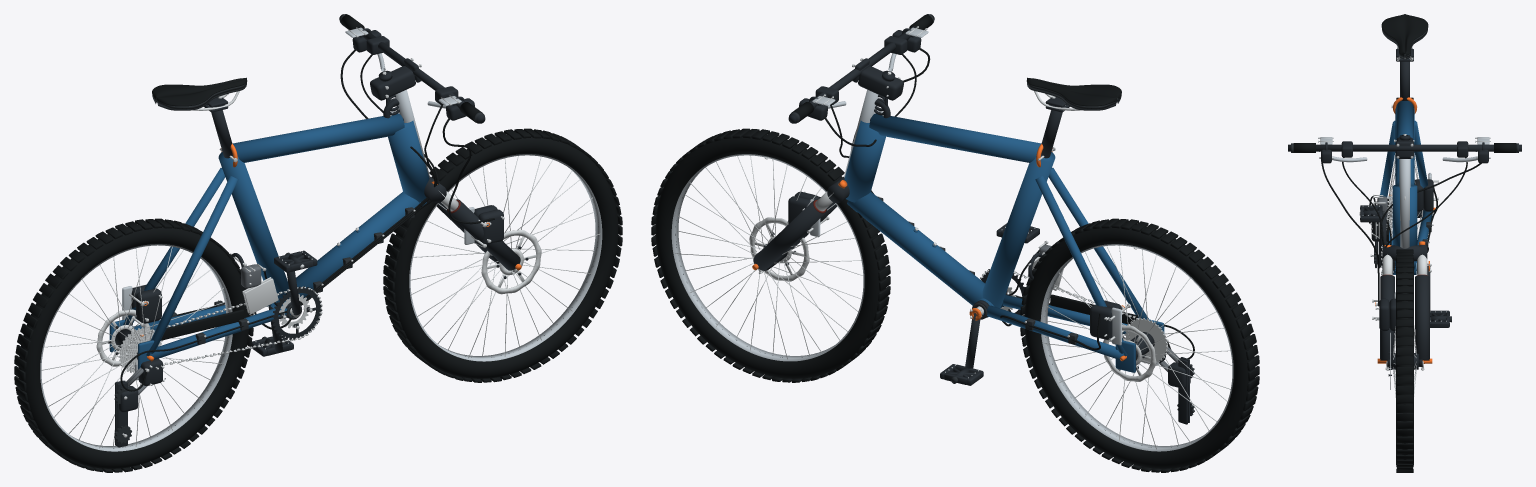
The model's file is BicycleEngineering_LOD1.fbx.
The picture shows the model from 3 angles, left to right: view 1: azimuth 30°, elevation 25°; view 2: azimuth 150°, elevation 25°; view 3: azimuth 270°, elevation 25°; orthographic projection. The views are drawn at different scales.
Parts seen in each view (by area): view 1: MM_LOD1_wheel_rear, MM_LOD1_wheel_front, MM_LOD1_frame, MM_LOD1_saddle_seatpost, MM_LOD1_cockpit_headset, MM_LOD1_brake_rear, MM_LOD1_fork, MM_LOD1_controls_cables, MM_LOD1_brake_front, MM_LOD1_crank_bottom_bracket, MM_LOD1_rear_derailleur, MM_LOD1_front_derailleur (+2 smaller); view 2: MM_LOD1_wheel_rear, MM_LOD1_wheel_front, MM_LOD1_frame, MM_LOD1_saddle_seatpost, MM_LOD1_fork, MM_LOD1_cockpit_headset, MM_LOD1_brake_rear, MM_LOD1_brake_front, MM_LOD1_rear_derailleur, MM_LOD1_controls_cables, MM_LOD1_crank_bottom_bracket, MM_LOD1_pedals; view 3: MM_LOD1_wheel_front, MM_LOD1_fork, MM_LOD1_frame, MM_LOD1_cockpit_headset, MM_LOD1_saddle_seatpost, MM_LOD1_brake_front, MM_LOD1_brake_rear, MM_LOD1_controls_cables, MM_LOD1_pedals, MM_LOD1_crank_bottom_bracket, MM_LOD1_wheel_rear, MM_LOD1_rear_derailleur.
Part boxes in pixels (box(x1,y1,x2,y2)): MM_LOD1_wheel_rear: box(14, 218, 253, 472); MM_LOD1_wheel_front: box(383, 128, 622, 382); MM_LOD1_frame: box(109, 113, 429, 380); MM_LOD1_saddle_seatpost: box(152, 77, 247, 167); MM_LOD1_cockpit_headset: box(339, 14, 485, 123); MM_LOD1_brake_rear: box(122, 27, 436, 329); MM_LOD1_fork: box(395, 89, 520, 274); MM_LOD1_controls_cables: box(120, 36, 458, 391); MM_LOD1_brake_front: box(427, 95, 504, 247); MM_LOD1_crank_bottom_bracket: box(268, 271, 322, 352); MM_LOD1_rear_derailleur: box(114, 358, 165, 447); MM_LOD1_front_derailleur: box(230, 253, 278, 314); MM_LOD1_wheel_rear: box(1020, 218, 1259, 472); MM_LOD1_wheel_front: box(651, 128, 890, 382); MM_LOD1_frame: box(844, 113, 1164, 372); MM_LOD1_saddle_seatpost: box(1026, 77, 1121, 167); MM_LOD1_fork: box(753, 89, 878, 273); MM_LOD1_cockpit_headset: box(788, 14, 934, 123); MM_LOD1_brake_rear: box(799, 94, 1130, 350); MM_LOD1_brake_front: box(788, 26, 930, 237); MM_LOD1_rear_derailleur: box(1159, 339, 1194, 424); MM_LOD1_controls_cables: box(815, 36, 1194, 358); MM_LOD1_crank_bottom_bracket: box(965, 269, 1025, 368); MM_LOD1_pedals: box(940, 223, 1039, 385); MM_LOD1_wheel_front: box(1377, 249, 1432, 472); MM_LOD1_fork: box(1380, 159, 1429, 370); MM_LOD1_frame: box(1376, 101, 1433, 274); MM_LOD1_cockpit_headset: box(1288, 134, 1521, 199); MM_LOD1_saddle_seatpost: box(1381, 14, 1428, 113); MM_LOD1_brake_front: box(1318, 137, 1395, 331); MM_LOD1_brake_rear: box(1380, 137, 1490, 274); MM_LOD1_controls_cables: box(1341, 141, 1468, 247); MM_LOD1_pedals: box(1359, 205, 1451, 327); MM_LOD1_crank_bottom_bracket: box(1379, 214, 1431, 316); MM_LOD1_wheel_rear: box(1388, 97, 1435, 239); MM_LOD1_rear_derailleur: box(1370, 222, 1380, 268).
Bounding box in the file's own units: 1.82 × 1.05 × 0.73.
